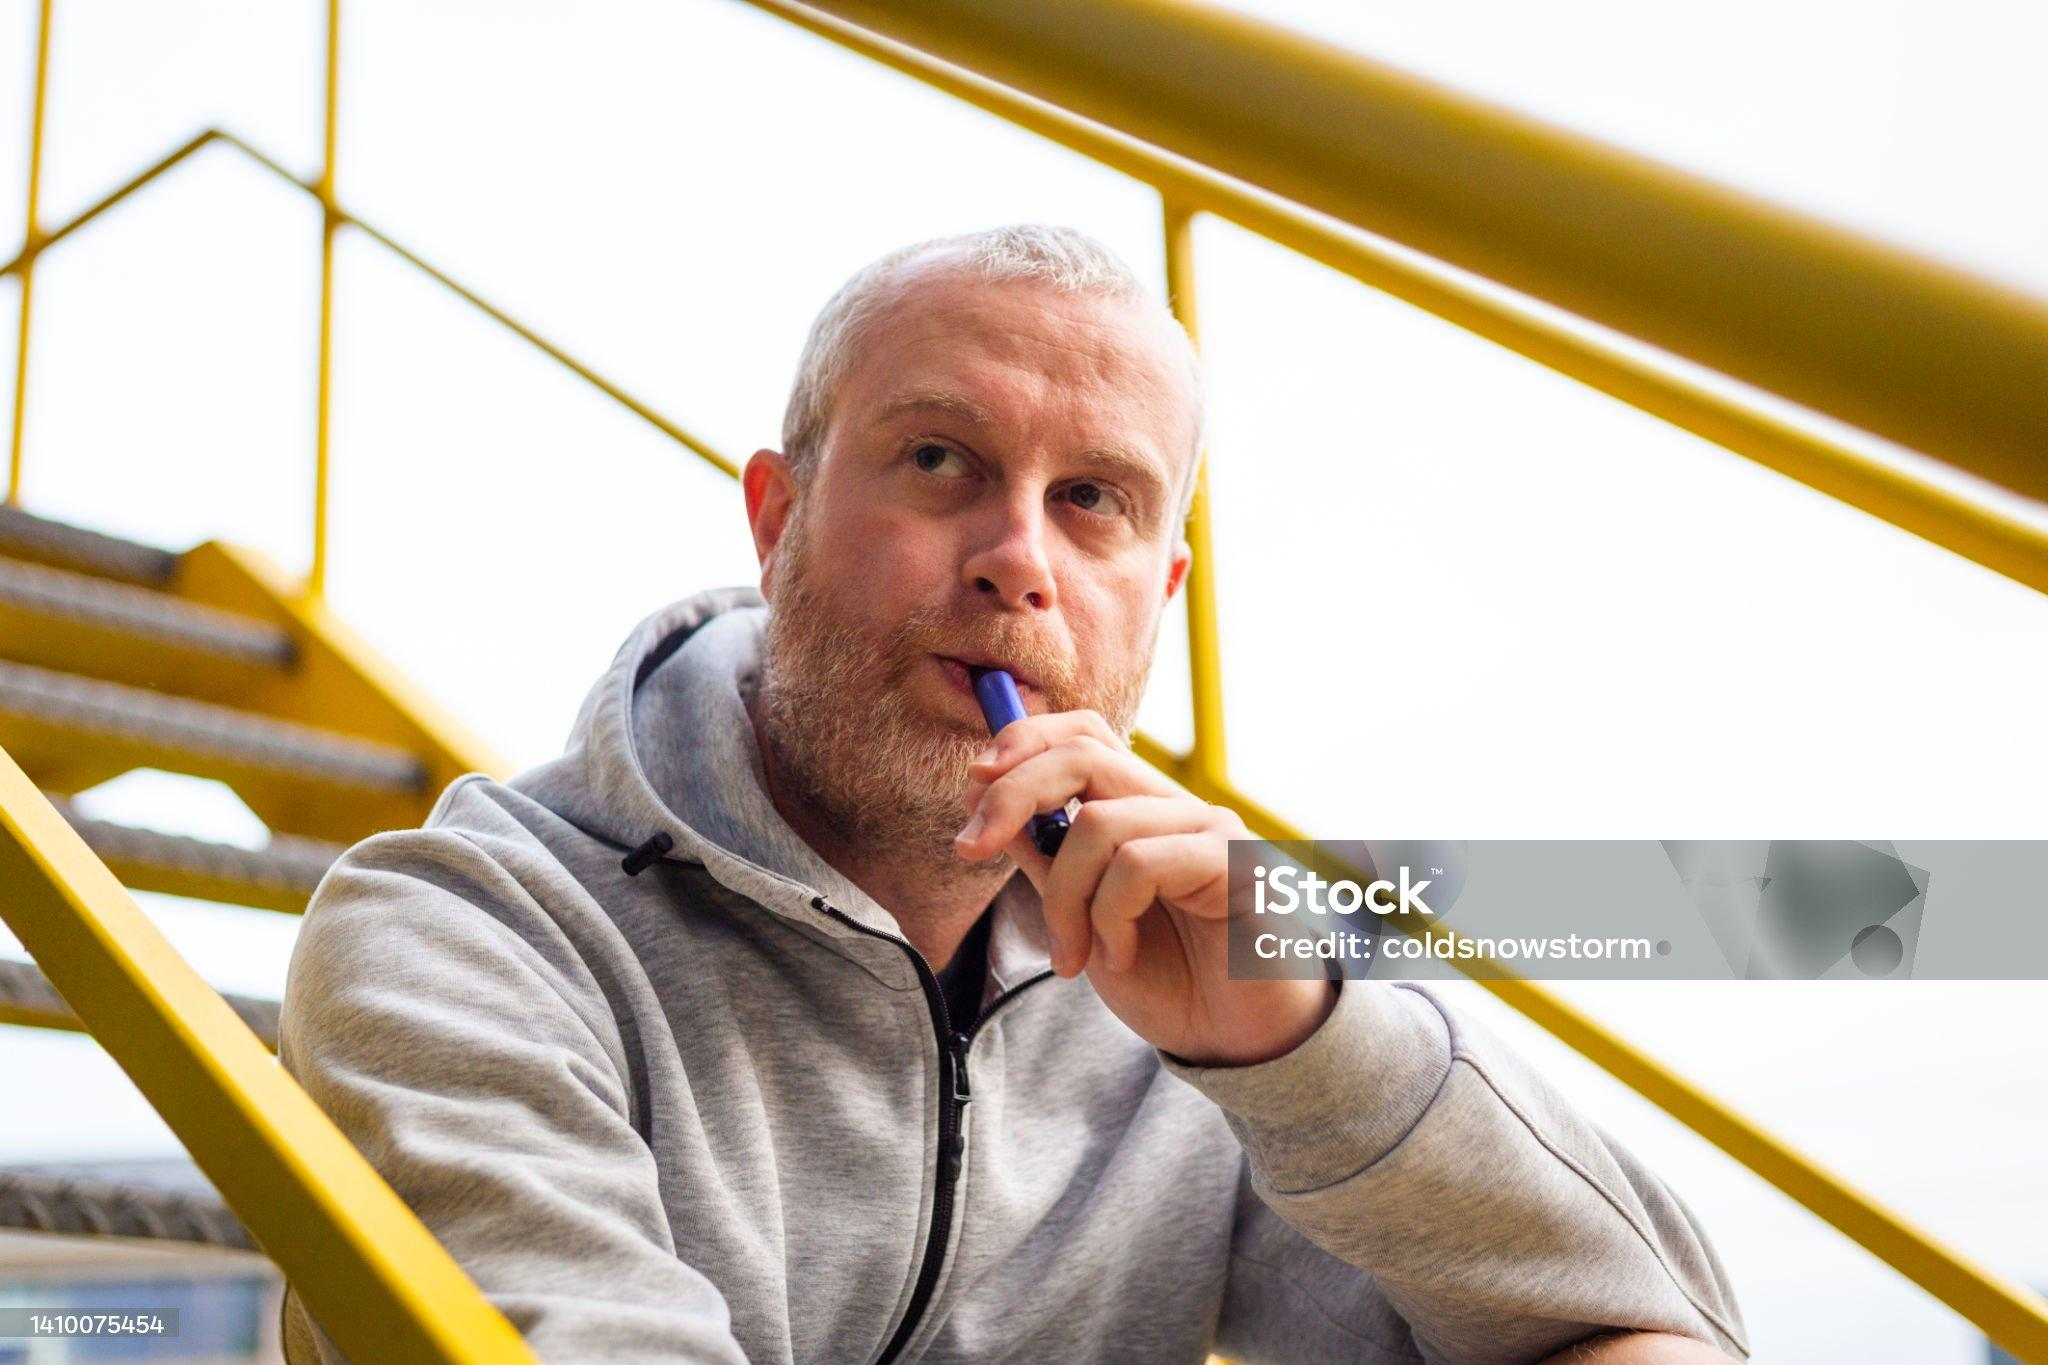Vape: (968, 664, 1072, 859)
